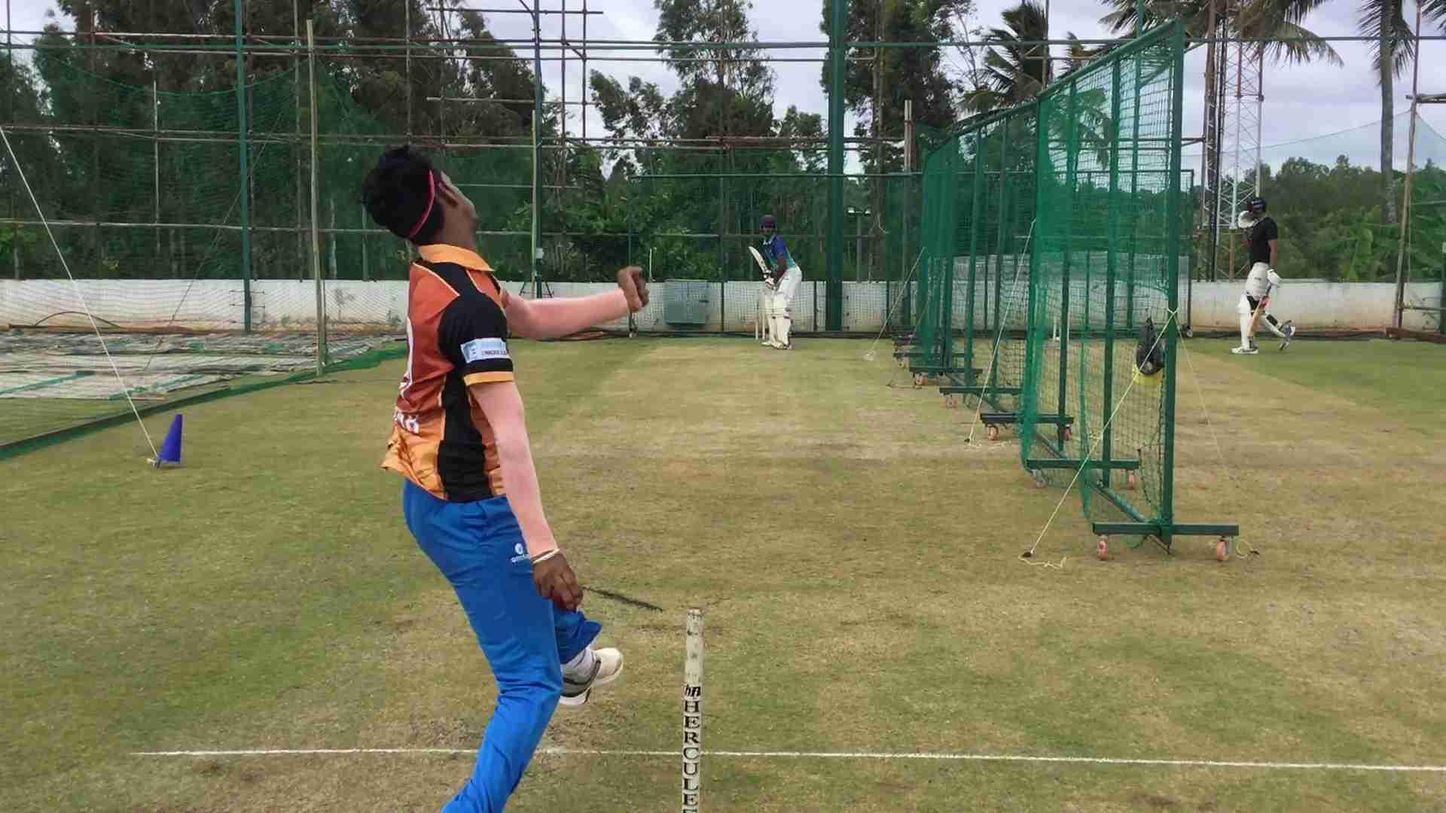batsman: (752, 210, 808, 353)
